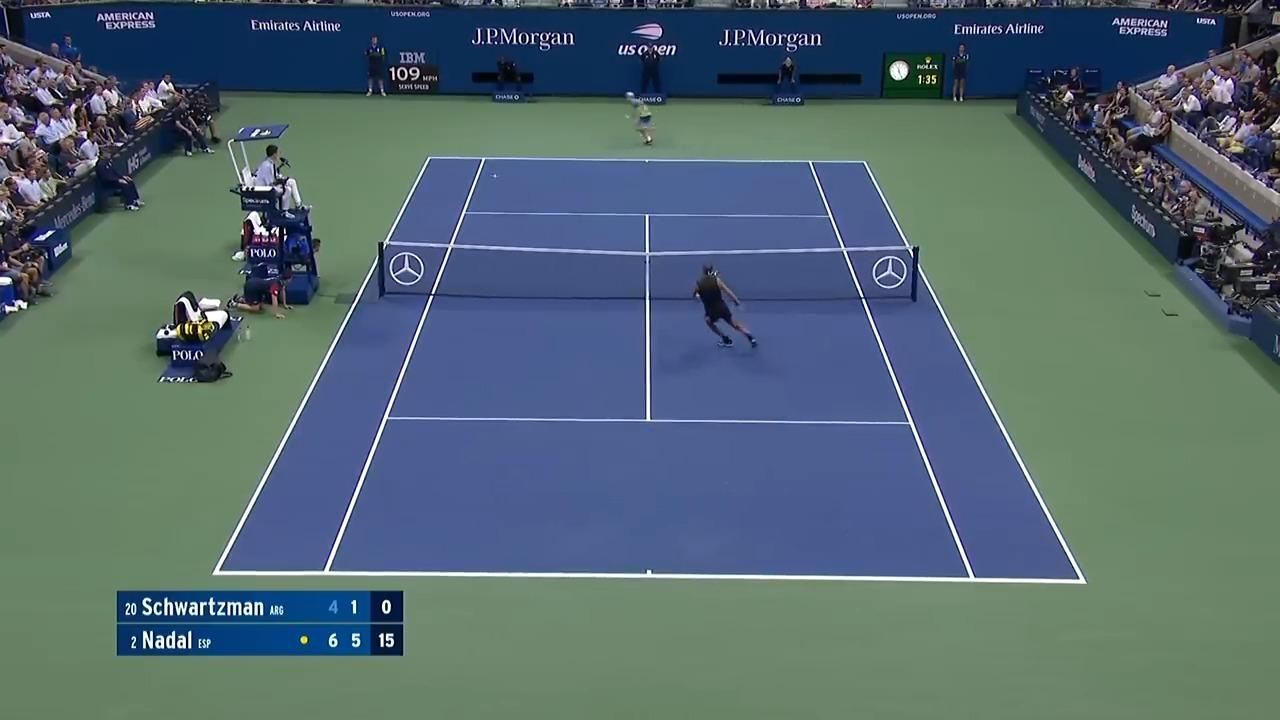tennis ball: (490, 172, 501, 180)
